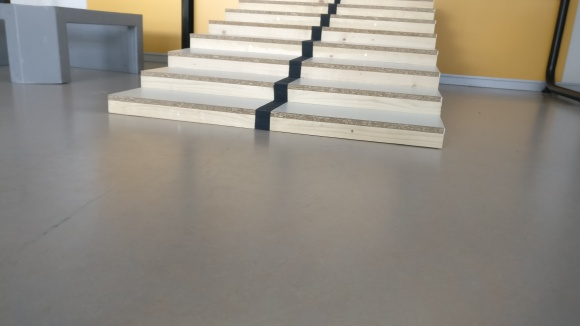stairs: (105, 1, 448, 151)
